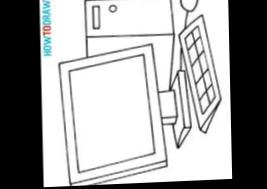keyboard: (178, 16, 220, 131)
monitor: (59, 42, 189, 186)
mouse: (179, 0, 201, 14)
pc: (85, 0, 173, 90)
